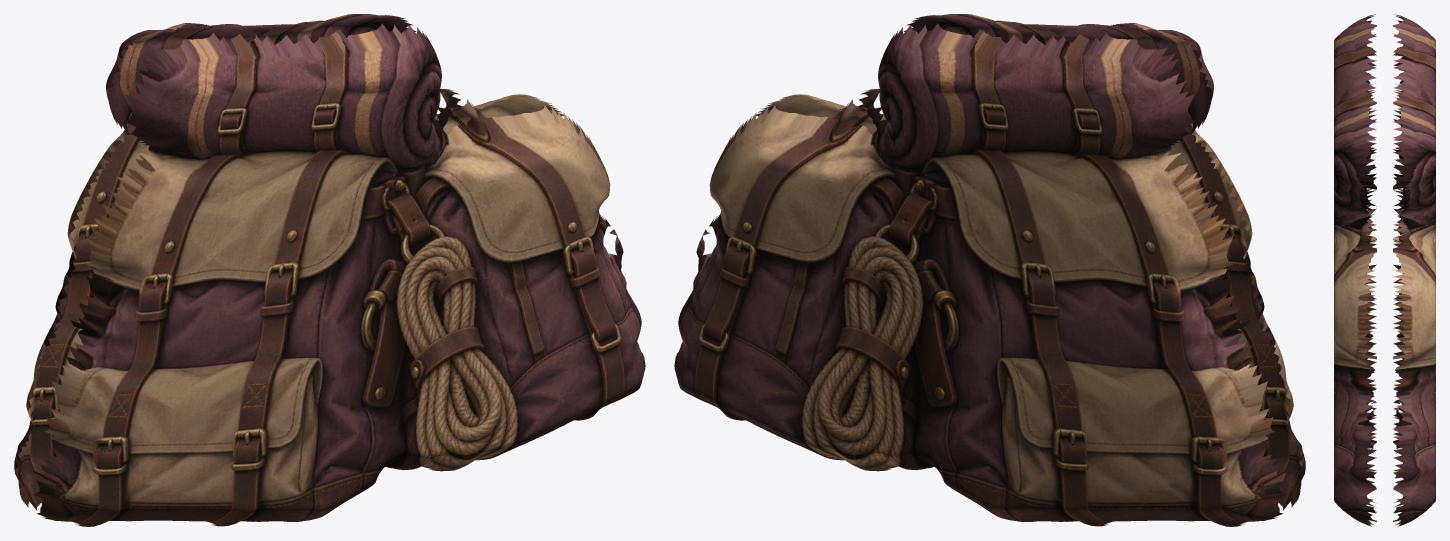
The model's file is v4-prop-pack-pile.glb.
The picture shows the model from 3 angles, left to right: view 1: azimuth 30°, elevation 25°; view 2: azimuth 150°, elevation 25°; view 3: azimuth 270°, elevation 25°; orthographic projection. The views are drawn at different scales.
Parts seen in each view (by area): view 1: v4-prop-pack-pile; view 2: v4-prop-pack-pile; view 3: v4-prop-pack-pile.
Part boxes in pixels (x1,y1,x2,y2): v4-prop-pack-pile: (14,14,645,526); v4-prop-pack-pile: (674,14,1305,526); v4-prop-pack-pile: (1334,14,1435,526).
Bounding box in the file's own units: 0.8646 × 0.6891 × 0.168.
Materials: 1 (1 with a texture image).
